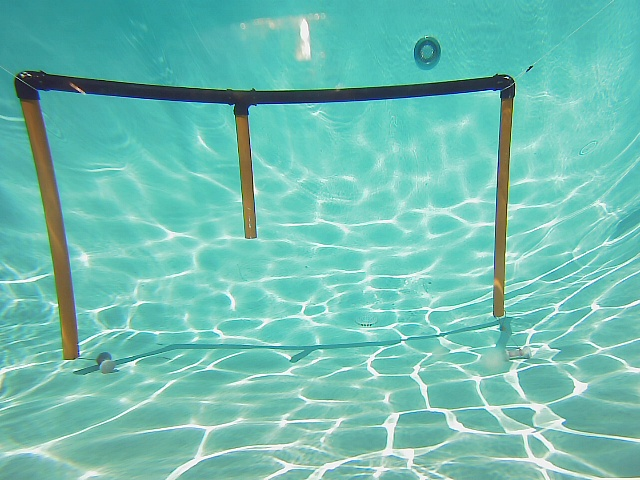Gate: (14, 91, 84, 366), (483, 92, 516, 322), (233, 107, 261, 242)
